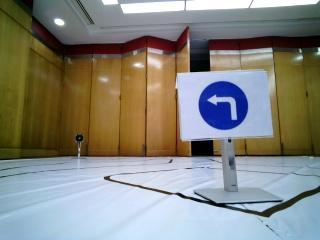left: (185, 76, 263, 129)
